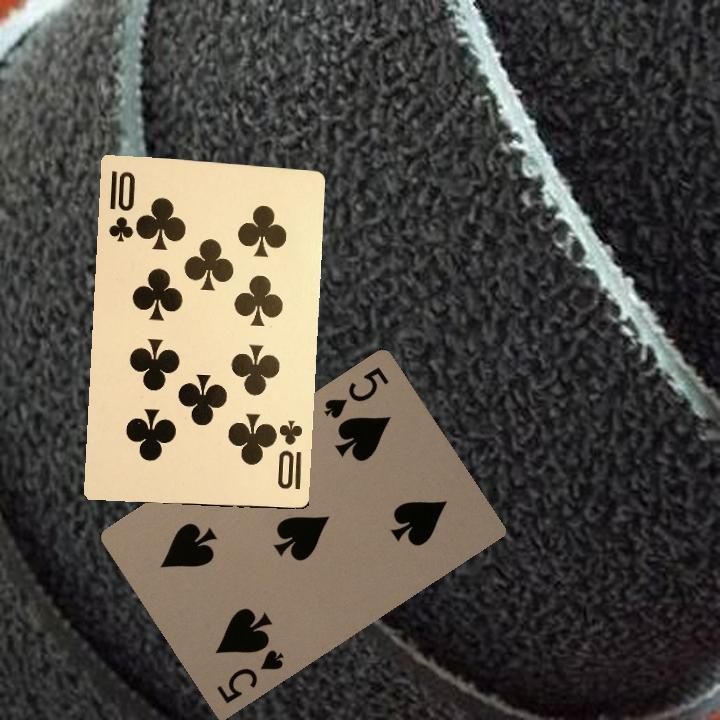10c: (268, 416, 305, 493), (105, 166, 140, 245)
5s: (212, 645, 287, 707), (320, 362, 392, 422)
